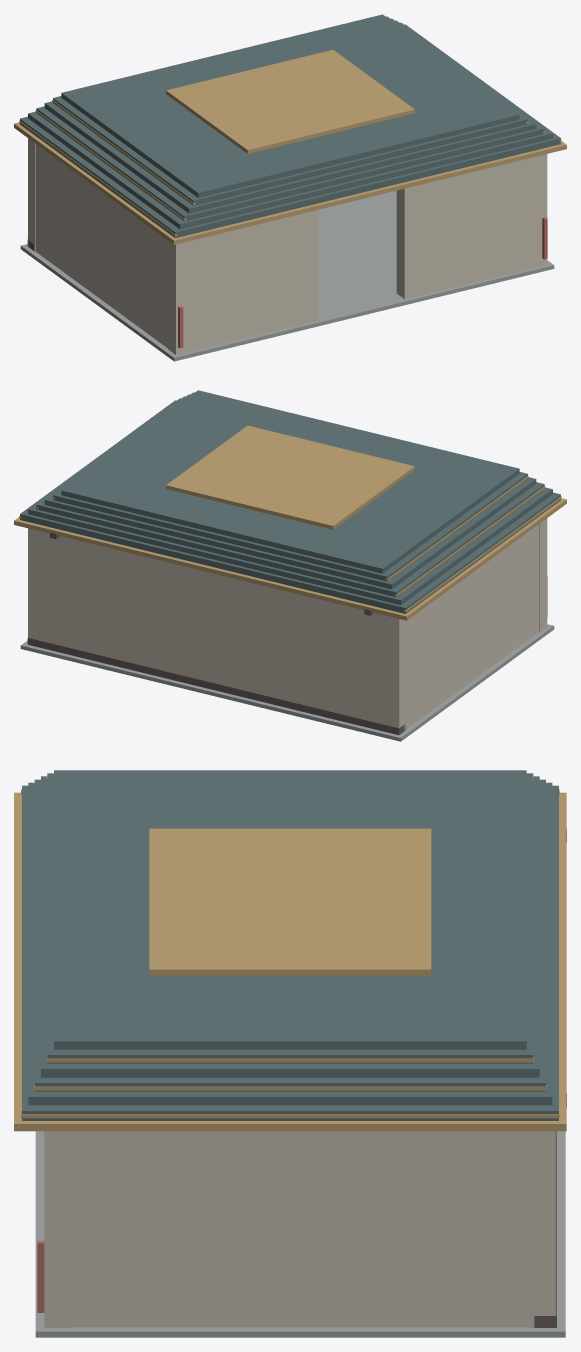
File: grand_hall.glb
3 renders of one model, top to bottom at view 1: azimuth 30°, elevation 25°; view 2: azimuth 150°, elevation 25°; view 3: azimuth 270°, elevation 25°, orthographic. The views are drawn at different scales.
Parts seen in each view (by area): view 1: grand_hall_09_roof_courses, grand_hall_04_front_panels, grand_hall_11_upper_ridge, grand_hall_02_side_walls, grand_hall_00_foundation, grand_hall_08_eaves, grand_hall_10_ridge_trim, grand_hall_03_back_wall, grand_hall_12_banners; view 2: grand_hall_09_roof_courses, grand_hall_03_back_wall, grand_hall_11_upper_ridge, grand_hall_02_side_walls, grand_hall_08_eaves, grand_hall_00_foundation, grand_hall_01_rear_base, grand_hall_10_ridge_trim, grand_hall_04_front_panels; view 3: grand_hall_09_roof_courses, grand_hall_02_side_walls, grand_hall_11_upper_ridge, grand_hall_08_eaves, grand_hall_00_foundation, grand_hall_10_ridge_trim, grand_hall_04_front_panels, grand_hall_03_back_wall.
Boxes of the visible parts, box(x1,y1,x2,y2) form: grand_hall_09_roof_courses: box(20, 14, 560, 237); grand_hall_04_front_panels: box(168, 154, 547, 354); grand_hall_11_upper_ridge: box(166, 50, 414, 153); grand_hall_02_side_walls: box(36, 144, 167, 348); grand_hall_00_foundation: box(20, 190, 554, 361); grand_hall_08_eaves: box(14, 122, 566, 244); grand_hall_10_ridge_trim: box(19, 100, 561, 236); grand_hall_03_back_wall: box(28, 138, 35, 251); grand_hall_12_banners: box(178, 217, 547, 348); grand_hall_09_roof_courses: box(20, 390, 560, 613); grand_hall_03_back_wall: box(28, 528, 406, 731); grand_hall_11_upper_ridge: box(166, 425, 414, 529); grand_hall_02_side_walls: box(407, 524, 538, 728); grand_hall_08_eaves: box(14, 498, 566, 620); grand_hall_00_foundation: box(20, 624, 554, 741); grand_hall_01_rear_base: box(27, 637, 405, 735); grand_hall_10_ridge_trim: box(19, 476, 561, 612); grand_hall_04_front_panels: box(539, 518, 547, 632); grand_hall_09_roof_courses: box(22, 770, 558, 1120); grand_hall_02_side_walls: box(71, 1131, 529, 1327); grand_hall_11_upper_ridge: box(149, 828, 431, 975); grand_hall_08_eaves: box(14, 792, 566, 1131); grand_hall_00_foundation: box(35, 1131, 565, 1337); grand_hall_10_ridge_trim: box(21, 776, 559, 1118); grand_hall_04_front_panels: box(44, 1131, 71, 1327); grand_hall_03_back_wall: box(530, 1131, 555, 1327).
Bounding box in the file's own units: 27.5 × 10.78 × 19.41.
